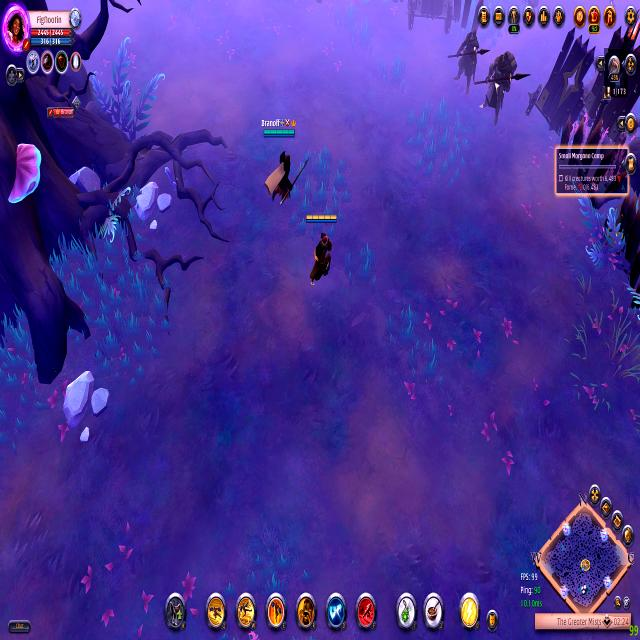ore: (474, 42, 522, 134), (444, 25, 483, 98)
red: (259, 113, 300, 221), (303, 205, 342, 302)
